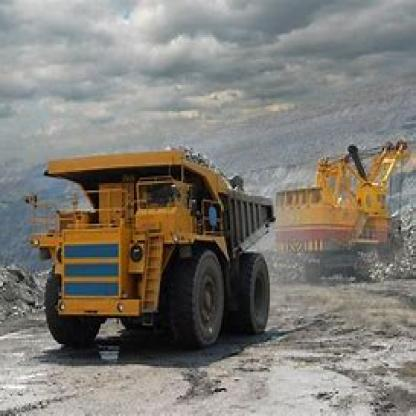dump_truck: (34, 137, 297, 349)
